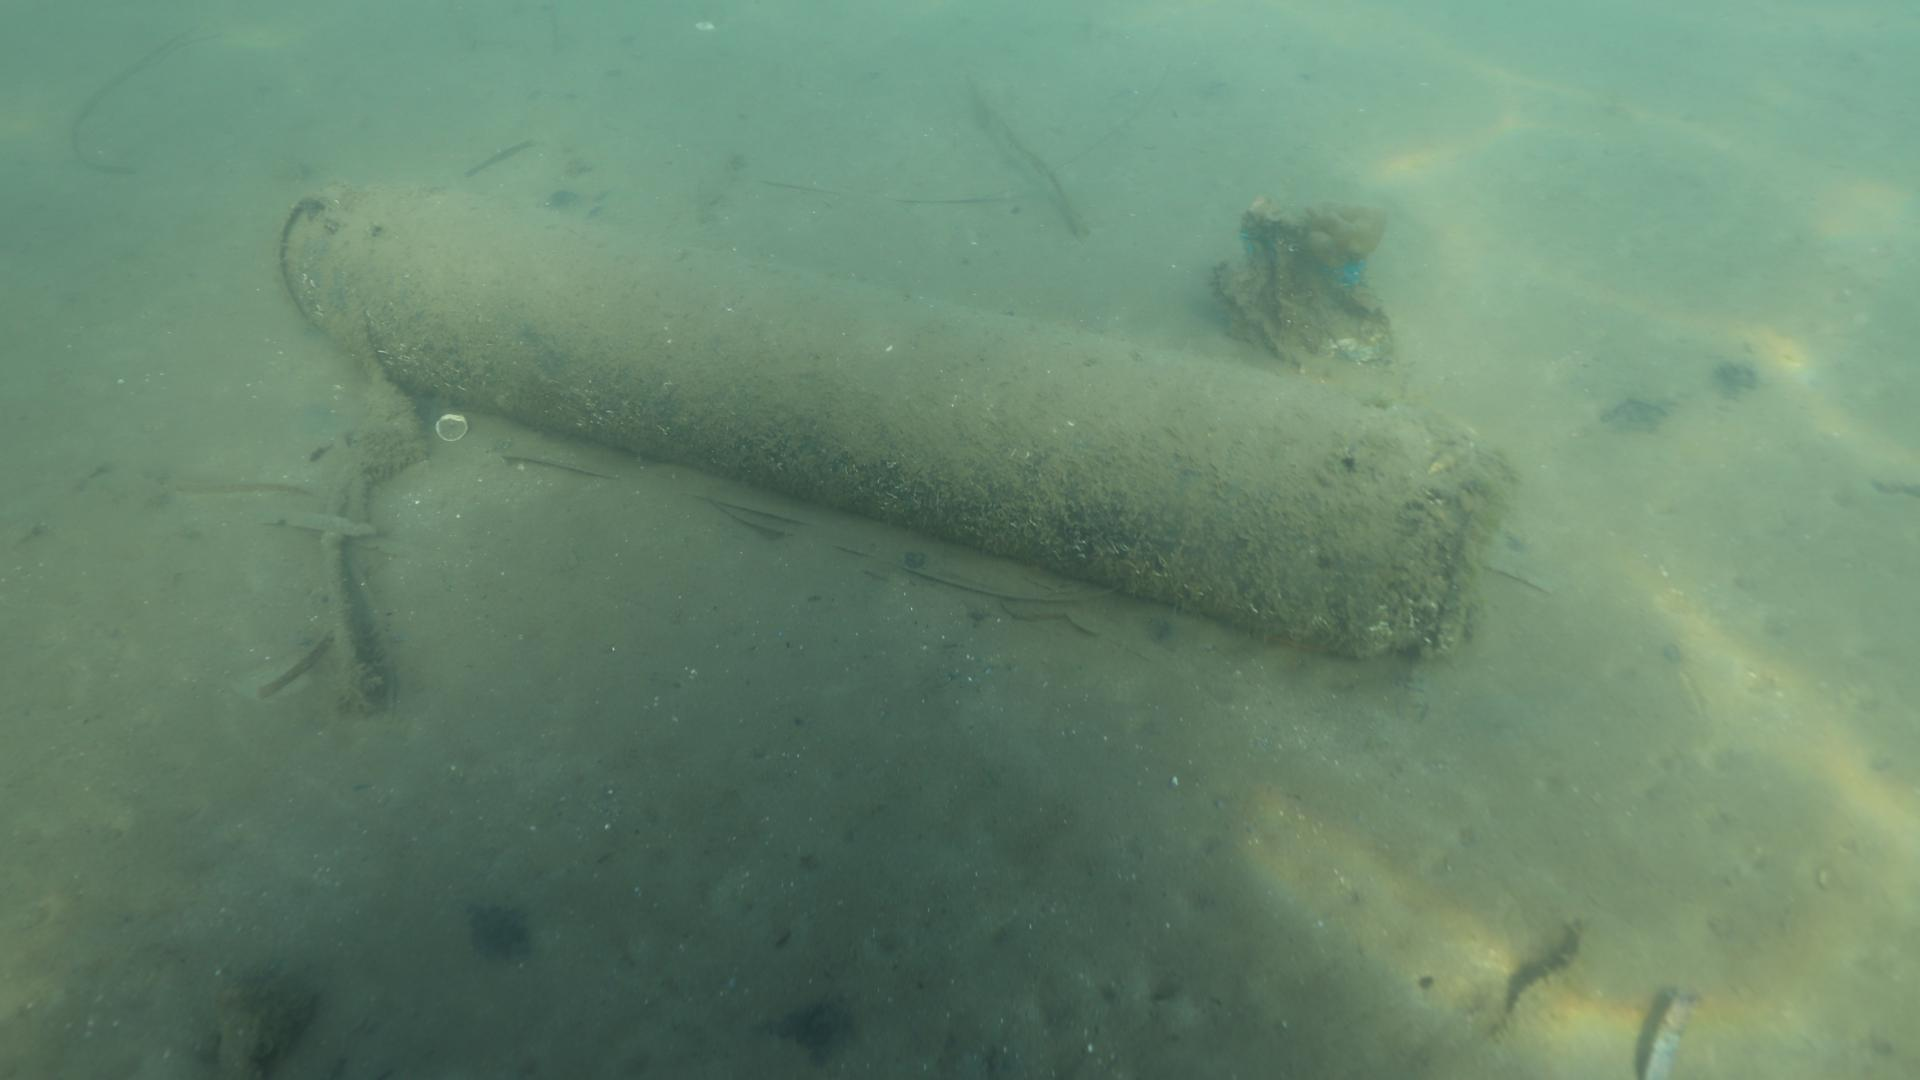eel fish trap: (274, 169, 1515, 669)
